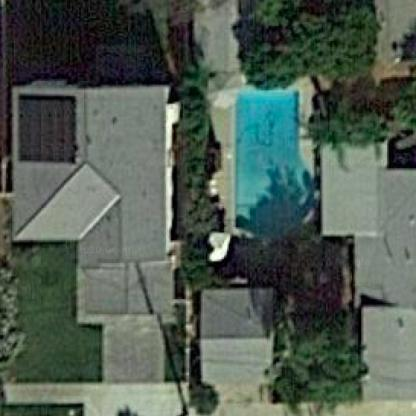solar_panel: (19, 89, 92, 171)
swimming_pool: (223, 67, 325, 260)
